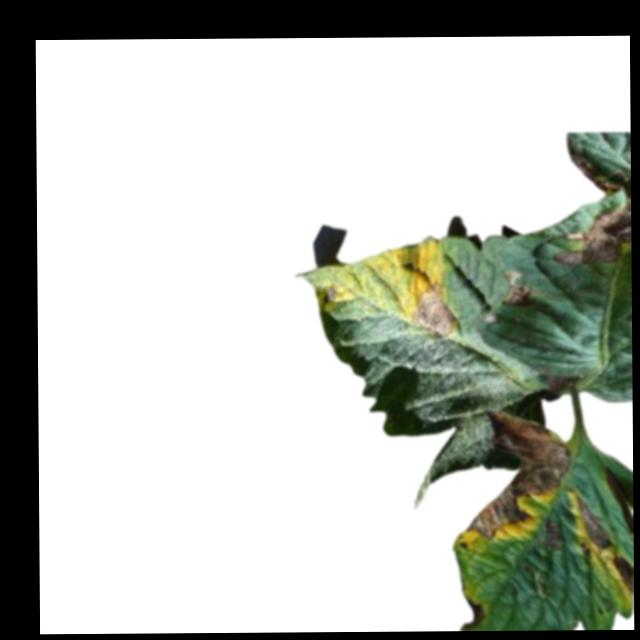Early_blight: (464, 405, 572, 545), (553, 150, 631, 269), (409, 281, 458, 339), (575, 490, 613, 551), (503, 271, 532, 306), (458, 595, 484, 631), (613, 553, 634, 592), (319, 282, 340, 306)
